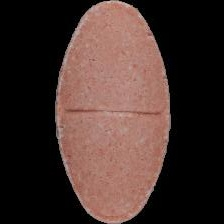54868-4678: (0, 0, 224, 224)
